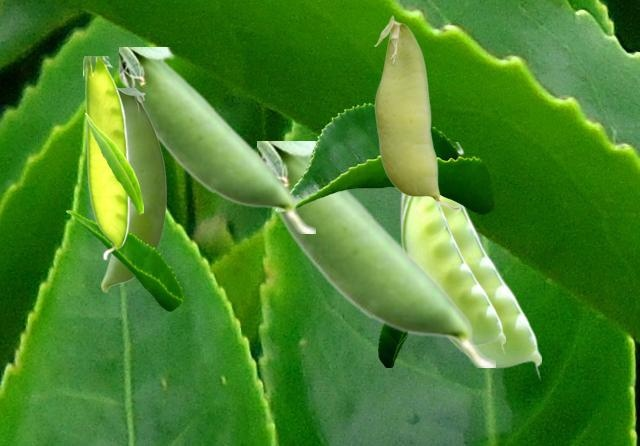pea: (257, 141, 494, 366), (119, 47, 314, 232), (399, 142, 540, 380), (373, 15, 460, 209), (400, 197, 504, 354), (101, 88, 165, 291), (83, 56, 128, 259)
